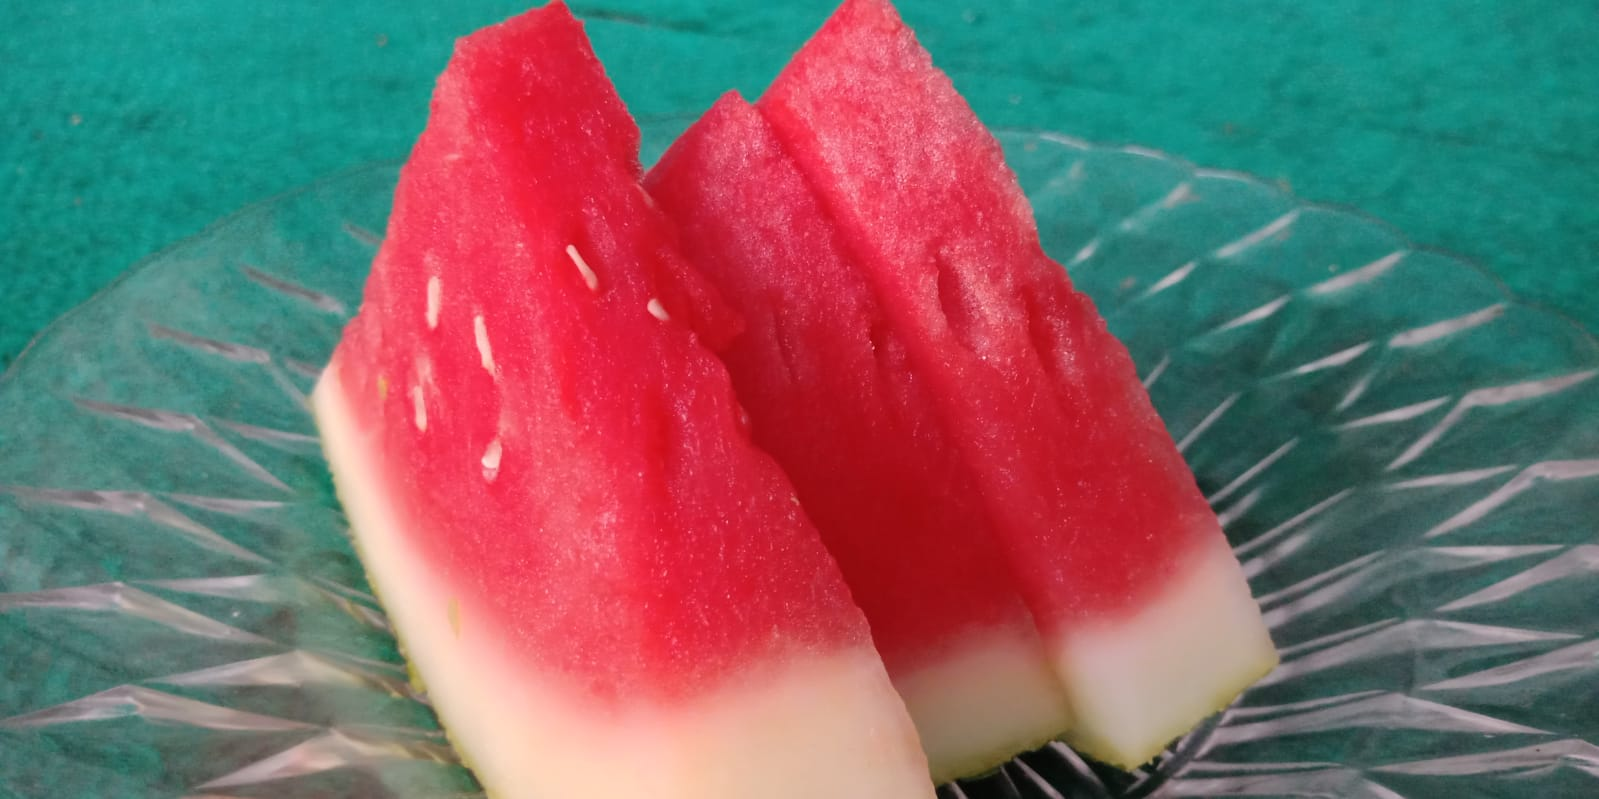Semangka: (270, 79, 767, 795), (901, 122, 1278, 767), (641, 180, 1064, 712)
